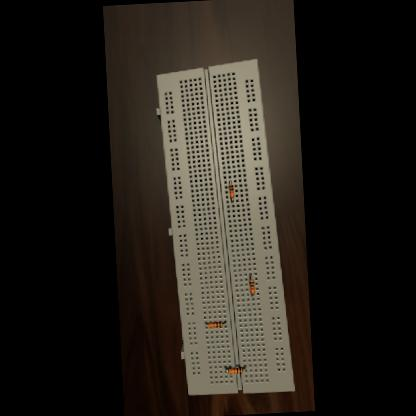breadboard: (154, 57, 294, 397)
resistor: (228, 368, 242, 375), (248, 278, 254, 294), (228, 184, 234, 198), (207, 322, 221, 328)
wire: (242, 364, 245, 370), (221, 320, 224, 324), (224, 366, 226, 371), (249, 273, 250, 279), (205, 322, 207, 325), (231, 198, 232, 202), (251, 294, 252, 296), (229, 182, 230, 184)
